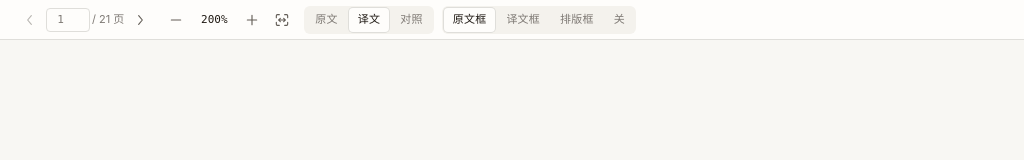
Test: PreviewToolbar › 缩放步进基于当前值（当前 200%：两次 ＋ 后是 313%）
Click the button named "放大": (252, 20) [238, 6, 266, 34]
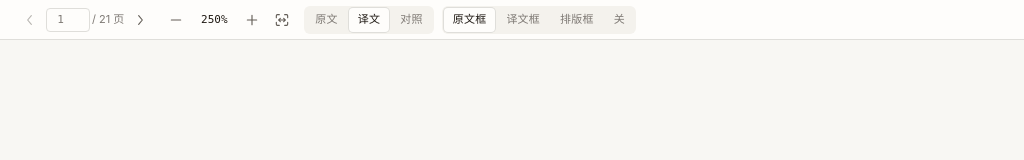
Click the button named "放大": (252, 20) [238, 6, 266, 34]
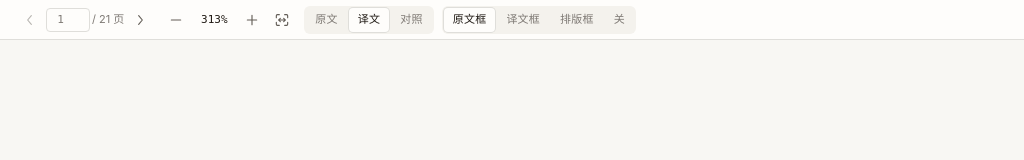
expect the text "313%" is shown: met, box [201, 12, 228, 26]
